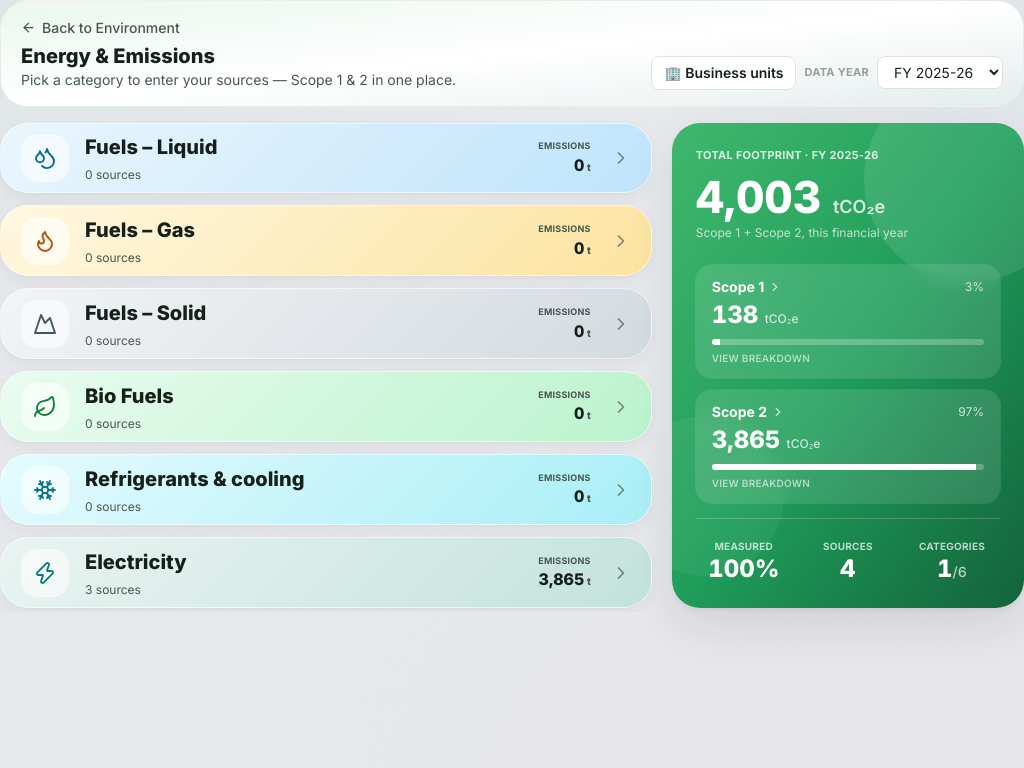
Scenario: ActivityDataTab — Scope drill-down › null-family fuel (ldo) appears in Other Fuels group in Scope 1 drill-down
# Navigate to the Scope 1 drill-down
Click the button with aria-label "Scope 1 details": (738, 286) [696,265,1000,378]
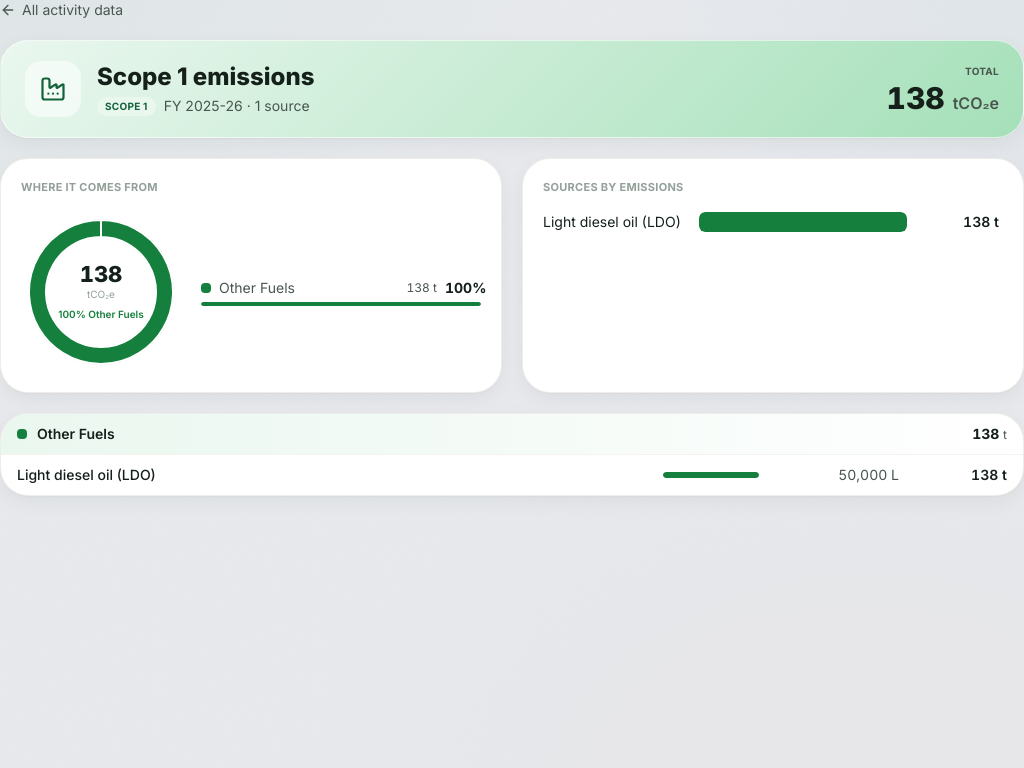
Result: the text "Other Fuels" below "Where it comes from" is shown at [219,278,295,296]
Result: the text "Light diesel oil (LDO)" below "Sources by emissions" is shown at [543,212,681,230]
